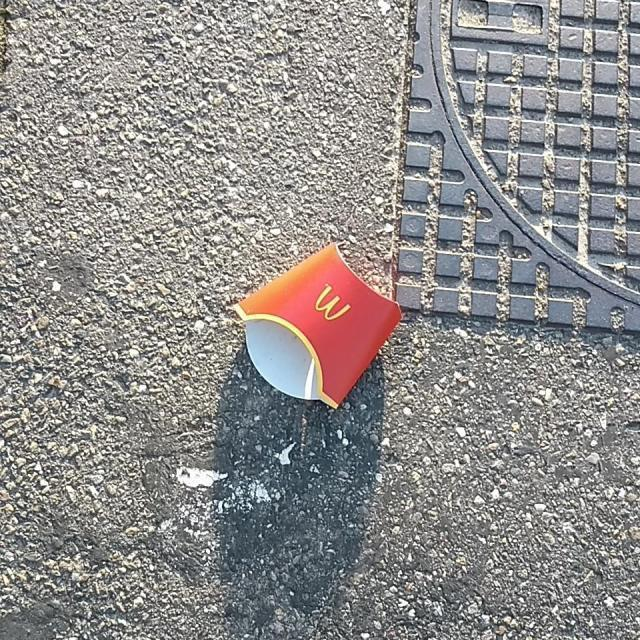Paper: (228, 240, 404, 412)
